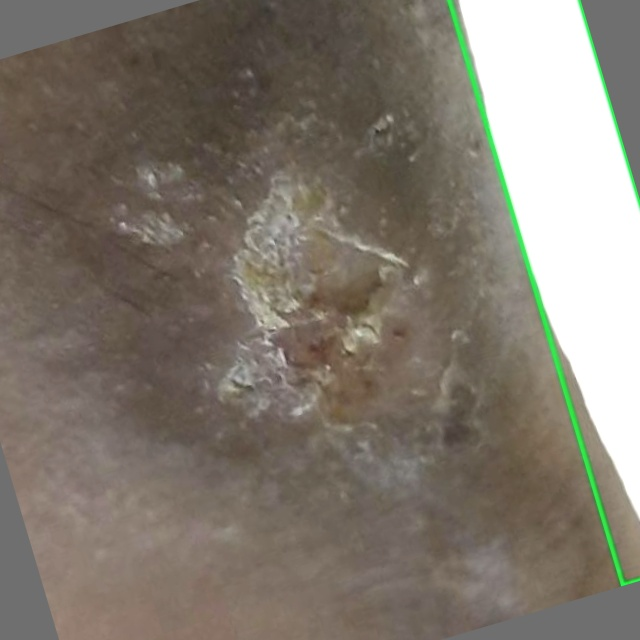Eczema: (449, 0, 639, 585)
